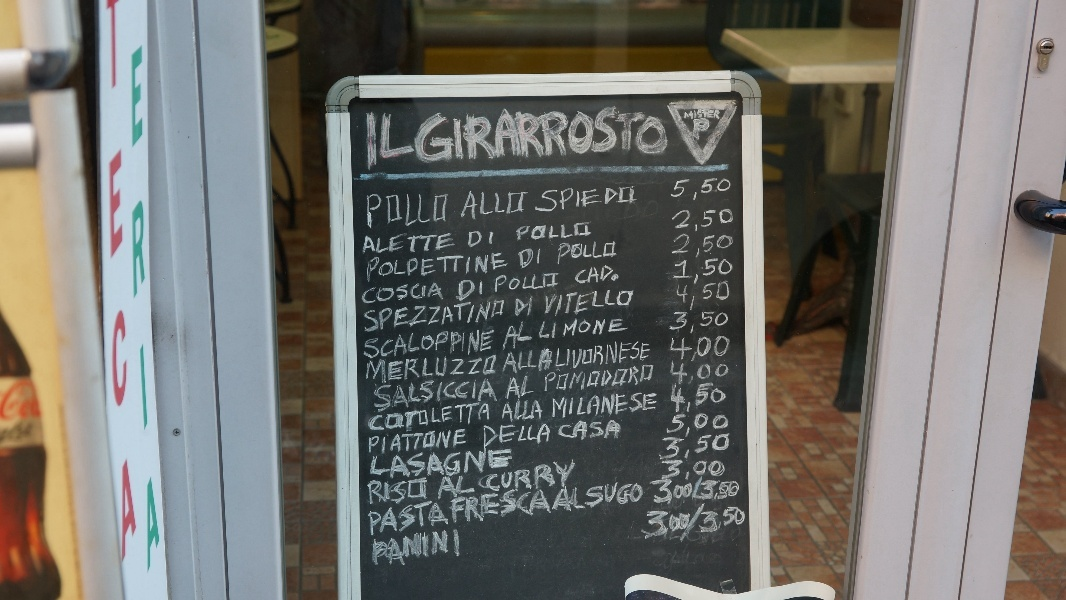text: (113, 2, 128, 580), (129, 38, 144, 593), (145, 38, 160, 593), (100, 2, 112, 580), (129, 2, 140, 580), (161, 38, 166, 593), (126, 38, 128, 593), (369, 104, 384, 173), (385, 104, 400, 173), (401, 104, 416, 173), (417, 104, 432, 173), (433, 104, 448, 173), (449, 104, 464, 173), (465, 104, 480, 173), (481, 104, 496, 173), (497, 104, 512, 173), (513, 104, 528, 173), (529, 104, 544, 173), (545, 104, 560, 173), (561, 104, 576, 173), (577, 104, 592, 173), (593, 104, 608, 173), (609, 104, 624, 173), (625, 104, 640, 173), (641, 104, 656, 173), (657, 104, 670, 173), (385, 526, 400, 571), (401, 526, 416, 571), (417, 526, 432, 571), (433, 526, 448, 571), (497, 448, 513, 489), (689, 502, 704, 545), (449, 485, 464, 527), (465, 485, 480, 527), (481, 485, 496, 527), (497, 485, 512, 527), (513, 485, 528, 527), (529, 485, 544, 527), (370, 526, 384, 571), (385, 448, 400, 489), (401, 448, 416, 489), (417, 448, 432, 489), (433, 448, 448, 489), (449, 448, 464, 489), (465, 448, 480, 489), (481, 448, 496, 489), (17, 380, 32, 420), (369, 296, 384, 334), (385, 296, 400, 334), (401, 296, 416, 334), (417, 296, 432, 334), (433, 296, 448, 334), (449, 296, 464, 334), (465, 296, 480, 334), (481, 296, 496, 334), (385, 376, 400, 414), (401, 376, 416, 414), (417, 376, 432, 414), (433, 376, 448, 414), (449, 376, 464, 414), (465, 376, 480, 414), (481, 376, 496, 414), (369, 499, 384, 537), (385, 499, 400, 537), (401, 499, 416, 537), (417, 499, 432, 537), (433, 499, 448, 537), (2, 380, 16, 420), (513, 318, 528, 355), (481, 456, 496, 493), (497, 456, 512, 493), (513, 456, 528, 493), (529, 456, 544, 493), (545, 456, 560, 493), (561, 456, 576, 493), (369, 194, 384, 230), (385, 194, 400, 230), (401, 194, 416, 230), (417, 194, 432, 230), (433, 194, 448, 230), (561, 391, 576, 427), (577, 391, 592, 427), (593, 391, 608, 427), (609, 391, 624, 427), (625, 391, 640, 427), (641, 391, 656, 427), (369, 475, 384, 511), (385, 475, 400, 511), (401, 475, 416, 511), (449, 526, 461, 571), (561, 337, 576, 372), (577, 337, 592, 372), (593, 337, 608, 372), (609, 337, 624, 372), (625, 337, 640, 372), (513, 191, 529, 223), (497, 252, 513, 284), (545, 287, 560, 321), (561, 287, 576, 321), (577, 287, 592, 321), (593, 287, 608, 321), (609, 287, 624, 321), (369, 400, 384, 434), (385, 400, 400, 434), (401, 400, 416, 434), (417, 400, 432, 434), (433, 400, 448, 434), (449, 400, 464, 434), (465, 400, 480, 434), (673, 432, 688, 466), (689, 432, 704, 466), (705, 432, 720, 466), (657, 477, 672, 511), (673, 477, 688, 511), (369, 354, 384, 387), (385, 354, 400, 387), (401, 354, 416, 387), (417, 354, 432, 387), (433, 354, 448, 387), (449, 354, 464, 387), (465, 354, 480, 387), (481, 354, 496, 387), (673, 381, 688, 414), (689, 381, 704, 414), (705, 381, 720, 414), (657, 510, 672, 543), (673, 510, 688, 543), (372, 448, 384, 489), (689, 280, 704, 312), (705, 280, 720, 312), (481, 191, 496, 223), (497, 191, 512, 223), (369, 252, 384, 284), (385, 252, 400, 284), (401, 252, 416, 284), (417, 252, 432, 284), (433, 252, 448, 284), (449, 252, 464, 284), (465, 252, 480, 284), (481, 252, 496, 284), (369, 328, 384, 360), (385, 328, 400, 360), (401, 328, 416, 360), (417, 328, 432, 360), (433, 328, 448, 360), (449, 328, 464, 360), (465, 328, 480, 360), (481, 328, 496, 360), (513, 349, 528, 381), (513, 374, 528, 406), (673, 433, 688, 465), (689, 433, 704, 465), (705, 433, 720, 465), (593, 478, 608, 510), (609, 478, 624, 510), (625, 478, 640, 510), (705, 504, 720, 536), (721, 504, 736, 536), (677, 502, 688, 545), (545, 363, 560, 394), (561, 363, 576, 394), (577, 363, 592, 394), (593, 363, 608, 394), (609, 363, 624, 394), (625, 363, 640, 394), (641, 363, 656, 394), (689, 412, 704, 443), (705, 412, 720, 443), (673, 207, 688, 237), (689, 207, 704, 237), (705, 207, 720, 237), (673, 258, 688, 288), (689, 258, 704, 288), (705, 258, 720, 288), (673, 359, 688, 389), (689, 359, 704, 389), (705, 359, 720, 389), (369, 428, 384, 458), (385, 428, 400, 458), (401, 428, 416, 458), (417, 428, 432, 458), (433, 428, 448, 458), (449, 428, 464, 458), (449, 475, 464, 505), (465, 475, 480, 505), (673, 335, 688, 364), (689, 335, 704, 364), (705, 335, 720, 364), (545, 185, 560, 214), (561, 185, 576, 214), (577, 185, 592, 214), (593, 185, 608, 214), (609, 185, 624, 214), (561, 486, 576, 515), (674, 412, 688, 443), (673, 177, 688, 205), (689, 177, 704, 205), (705, 177, 720, 205), (721, 207, 735, 237), (673, 311, 688, 339), (689, 311, 704, 339), (705, 311, 720, 339), (561, 238, 576, 266), (577, 238, 592, 266), (593, 238, 608, 266), (373, 376, 384, 414), (625, 287, 637, 321), (673, 232, 688, 259), (689, 232, 704, 259), (705, 232, 720, 259), (465, 277, 480, 304), (513, 398, 528, 425), (529, 398, 544, 425), (497, 423, 512, 450), (513, 423, 528, 450), (529, 423, 544, 450), (689, 474, 704, 501), (417, 475, 428, 511), (721, 258, 734, 288), (369, 231, 384, 257), (385, 231, 400, 257), (401, 231, 416, 257), (417, 231, 432, 257), (433, 231, 448, 257), (369, 280, 384, 306), (385, 280, 400, 306), (401, 280, 416, 306), (417, 280, 432, 306), (433, 280, 448, 306), (673, 458, 688, 484), (689, 458, 704, 484), (705, 458, 720, 484), (705, 479, 720, 505), (721, 479, 736, 505), (17, 420, 33, 444), (497, 296, 507, 334), (545, 485, 554, 527), (625, 185, 638, 214), (577, 262, 592, 287), (593, 262, 608, 287), (721, 432, 732, 466), (497, 270, 512, 294), (513, 270, 528, 294), (529, 270, 544, 294), (545, 270, 560, 294), (545, 318, 560, 342), (561, 318, 576, 342), (577, 318, 592, 342), (593, 318, 608, 342), (609, 318, 624, 342), (1, 420, 16, 444), (677, 280, 688, 312), (469, 191, 480, 223), (737, 504, 748, 536), (721, 232, 734, 259), (483, 423, 496, 450), (641, 337, 651, 372), (721, 335, 733, 364), (363, 104, 368, 173), (561, 419, 576, 442), (577, 419, 592, 442), (593, 419, 608, 442), (481, 400, 491, 434), (662, 432, 672, 466), (721, 177, 733, 205), (514, 294, 528, 318), (646, 510, 656, 543), (529, 349, 539, 381), (662, 433, 672, 465), (721, 433, 731, 465), (33, 380, 41, 420), (577, 486, 588, 515), (529, 221, 544, 242), (545, 221, 560, 242), (561, 221, 576, 242), (577, 221, 592, 242), (529, 246, 542, 270), (721, 359, 731, 389), (673, 550, 688, 570), (689, 550, 704, 570), (705, 550, 720, 570), (609, 419, 622, 442), (721, 280, 730, 312), (641, 478, 650, 510), (661, 458, 672, 484), (658, 550, 672, 570), (721, 412, 730, 443), (693, 118, 704, 142), (517, 246, 528, 270), (721, 311, 730, 339), (516, 221, 528, 242), (609, 238, 618, 266), (553, 391, 560, 427), (481, 230, 494, 249), (721, 381, 728, 414), (468, 230, 480, 249), (529, 374, 536, 406), (456, 277, 464, 304), (441, 475, 448, 505), (449, 231, 457, 257), (650, 477, 656, 511), (689, 477, 695, 511), (689, 108, 704, 121), (705, 108, 720, 121), (363, 296, 368, 334), (505, 398, 512, 425), (529, 318, 534, 355), (361, 280, 368, 306), (609, 262, 616, 287), (705, 502, 709, 545), (545, 423, 551, 450), (587, 478, 592, 510), (508, 318, 512, 355), (577, 456, 581, 493), (705, 118, 711, 142), (721, 458, 726, 484), (737, 479, 742, 505), (364, 328, 368, 360), (529, 294, 534, 318), (625, 318, 630, 342), (497, 376, 500, 414), (449, 499, 452, 537), (557, 337, 560, 372), (689, 510, 692, 543), (509, 349, 512, 381), (509, 374, 512, 406), (701, 504, 704, 536), (541, 185, 544, 214), (446, 485, 448, 527), (481, 277, 484, 304), (545, 398, 548, 425), (365, 231, 368, 257), (478, 456, 480, 493), (366, 194, 368, 230), (541, 318, 544, 342), (366, 475, 368, 511), (497, 354, 499, 387), (366, 252, 368, 284), (465, 428, 467, 458), (558, 238, 560, 266), (684, 108, 688, 121), (574, 262, 576, 287), (721, 550, 723, 570), (367, 499, 368, 537), (449, 194, 450, 230), (657, 391, 658, 427), (367, 400, 368, 434), (367, 354, 368, 387), (671, 359, 672, 389), (671, 335, 672, 364), (559, 486, 560, 515), (671, 177, 672, 205), (495, 270, 496, 294), (721, 108, 722, 121)
